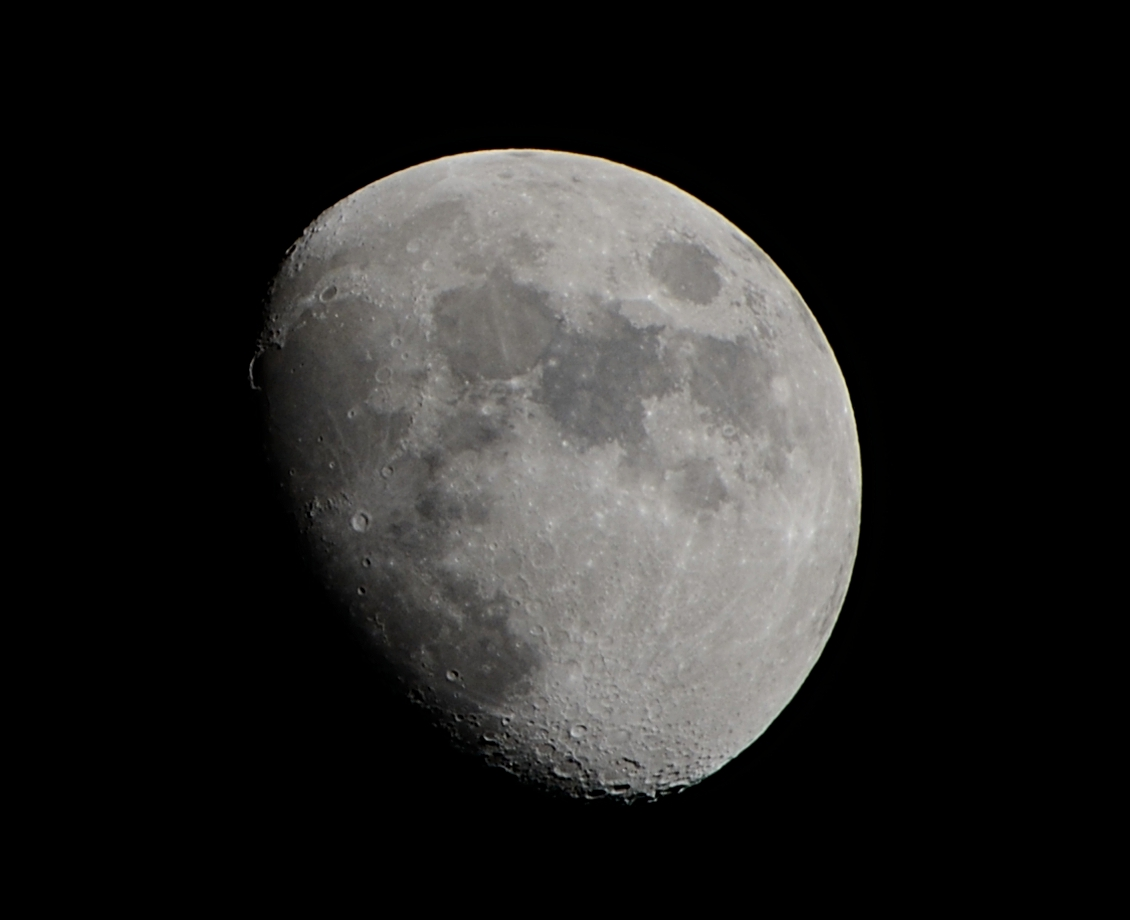crater: (409, 260, 563, 395), (625, 228, 739, 313), (328, 498, 402, 539), (518, 530, 580, 578), (311, 277, 360, 315), (476, 163, 531, 190), (562, 715, 599, 746), (797, 511, 829, 546), (335, 387, 358, 426), (529, 736, 563, 762), (523, 597, 553, 622), (353, 580, 378, 605), (441, 662, 467, 685), (360, 551, 381, 570), (311, 426, 328, 446)
